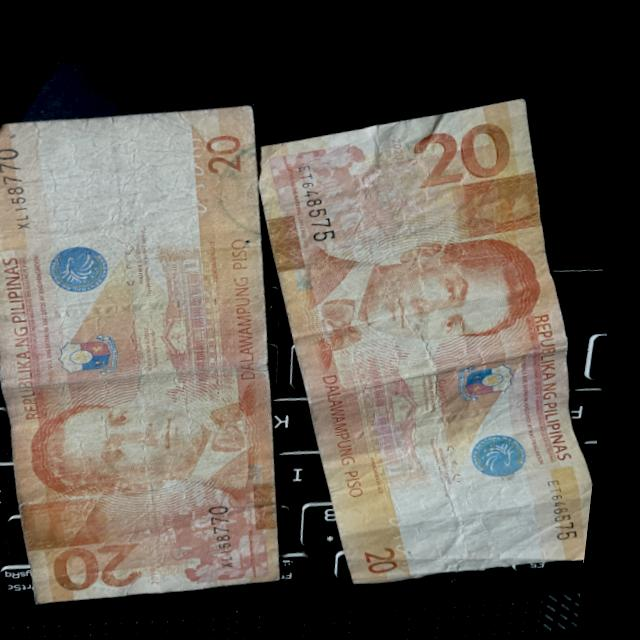concealed_value: (447, 161, 548, 234), (27, 485, 128, 555)
serial_number: (290, 147, 354, 249), (0, 134, 54, 246), (540, 457, 598, 546), (203, 490, 261, 573)
value: (407, 101, 531, 194), (62, 525, 164, 597)
watermark: (416, 452, 568, 566)
